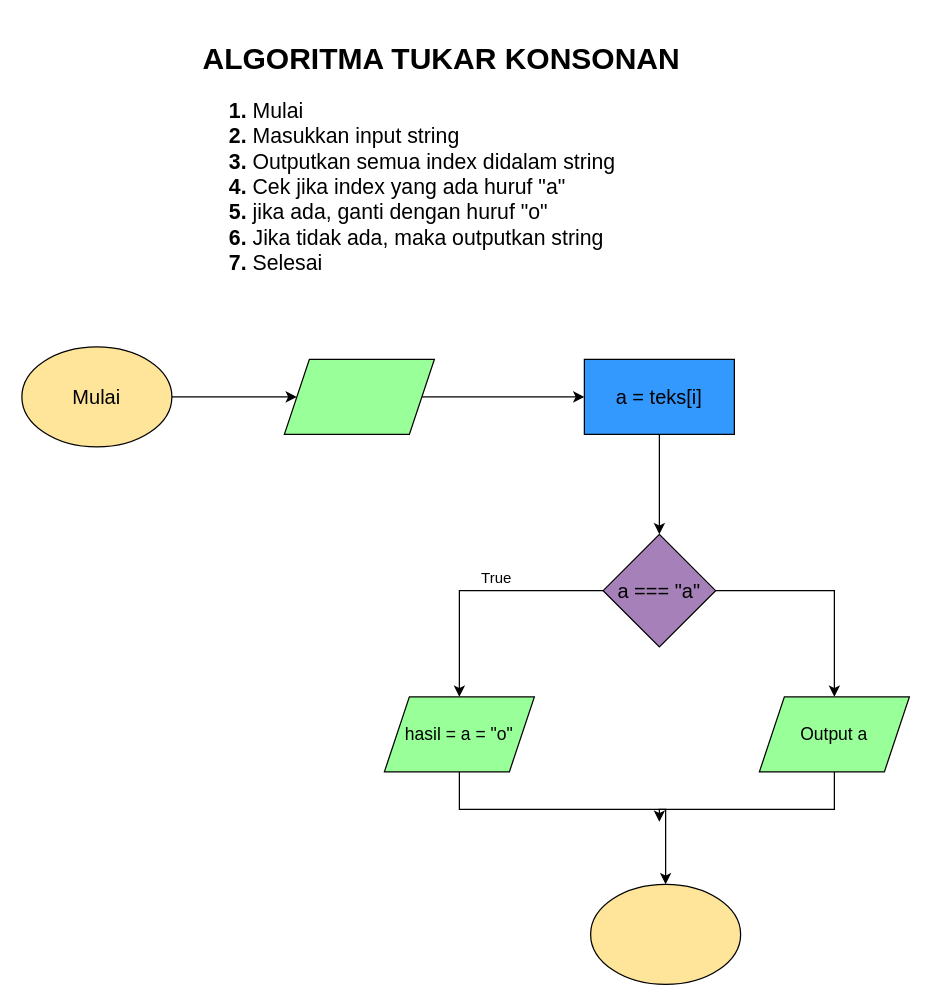
The diagram is 931 pixels wide and 1006 high, and some of its shapes have lost their labels. The shapes that lost their labels are listed below. From the top down, each one's box as (x1, y1, x2, y2) in pixels, then its label:
(283, 358, 434, 434): Input Teks
(589, 883, 741, 984): Selesai
